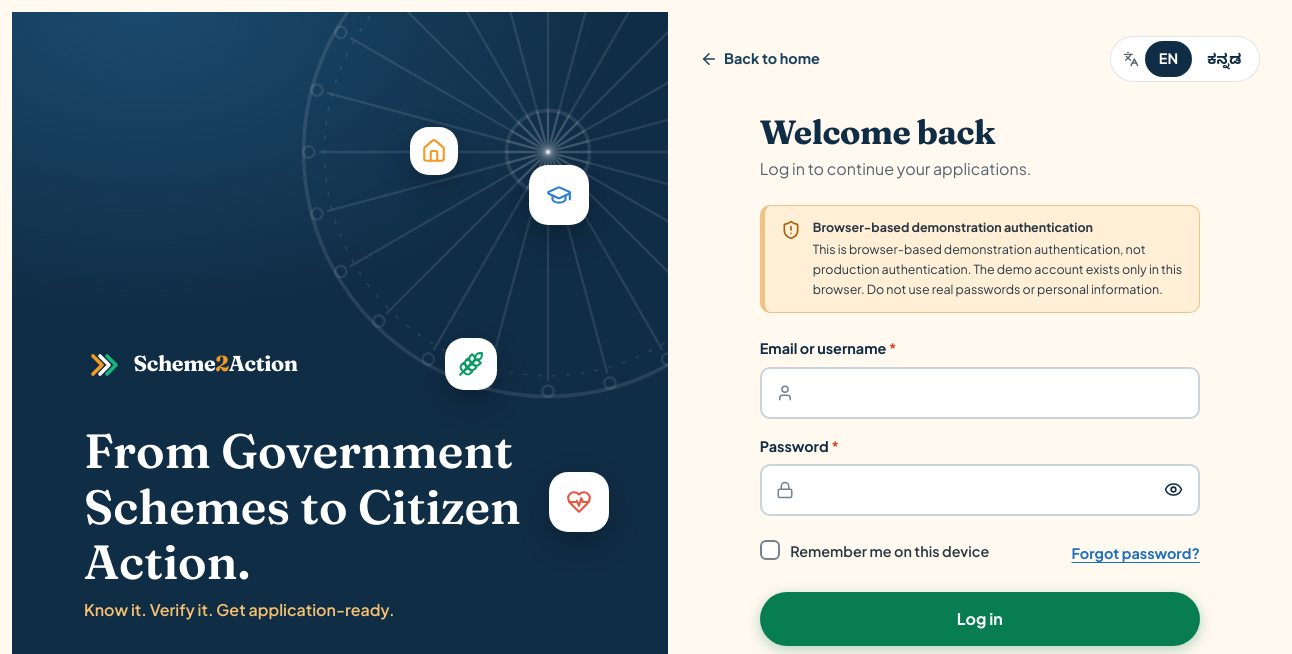
login › rejects wrong credentials with a generic message
Type "test.user" into the field labelled "Email or username *" at (980,392), box x1=760 y1=366 x2=1200 y2=418
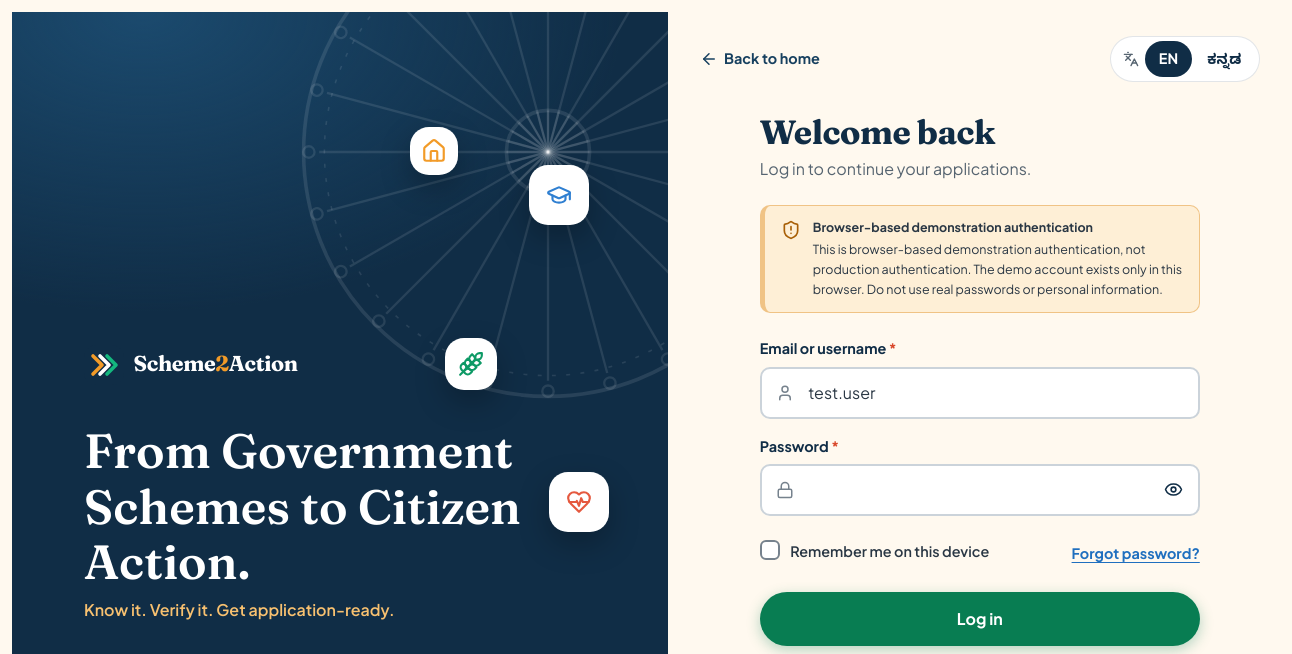
Type "wrongpass1" into the password field labelled "Password *" at (980,490), box x1=760 y1=464 x2=1200 y2=516
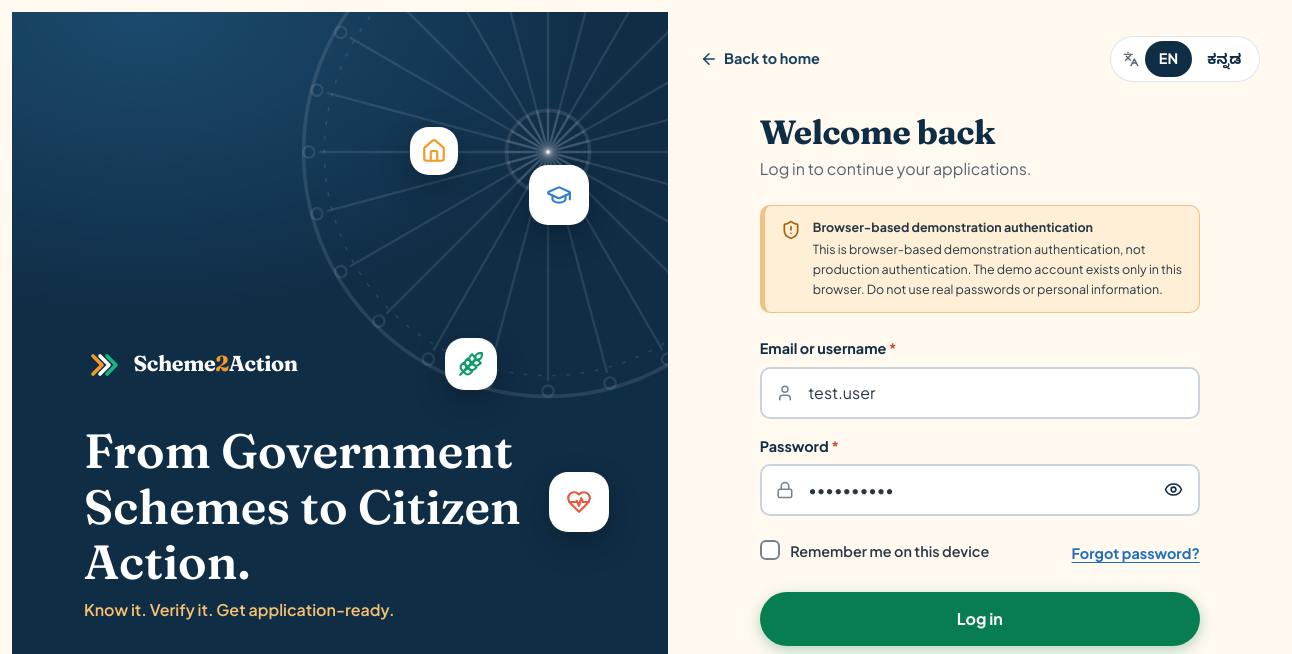
Click the button "Log in" at (980,619), box x1=760 y1=592 x2=1200 y2=646
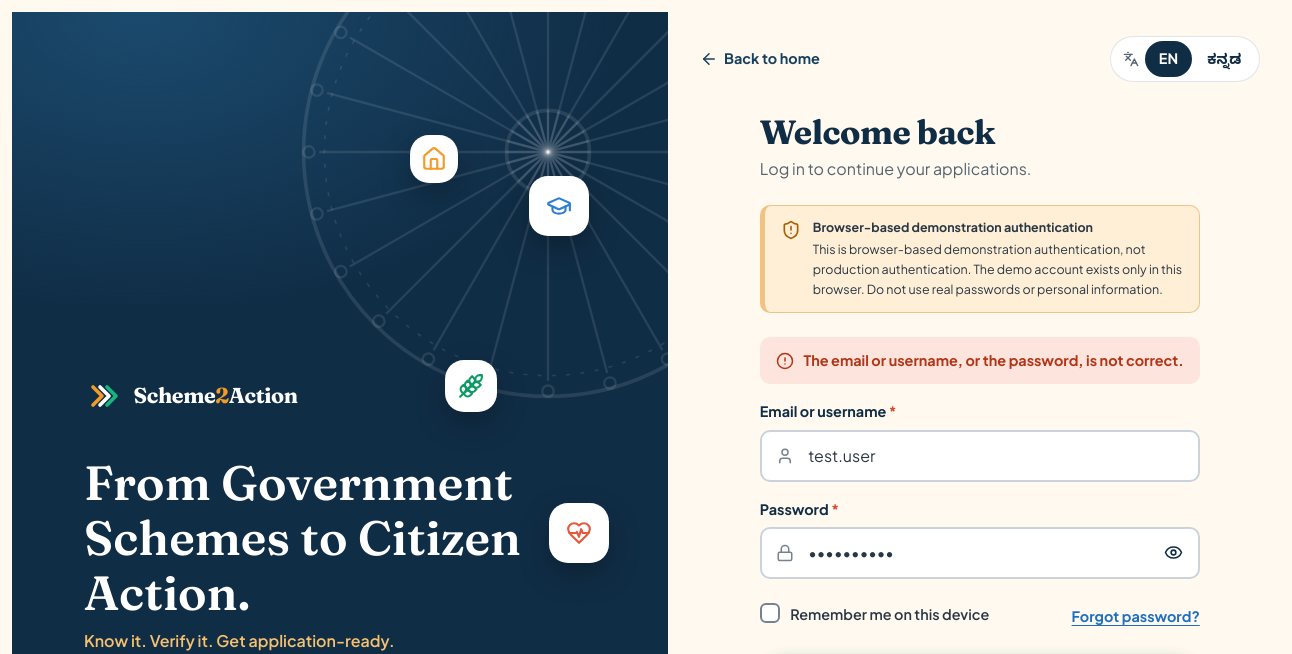
Check: the text "The email or username, or the password, is not correct." is shown, box x1=803 y1=349 x2=1184 y2=372
